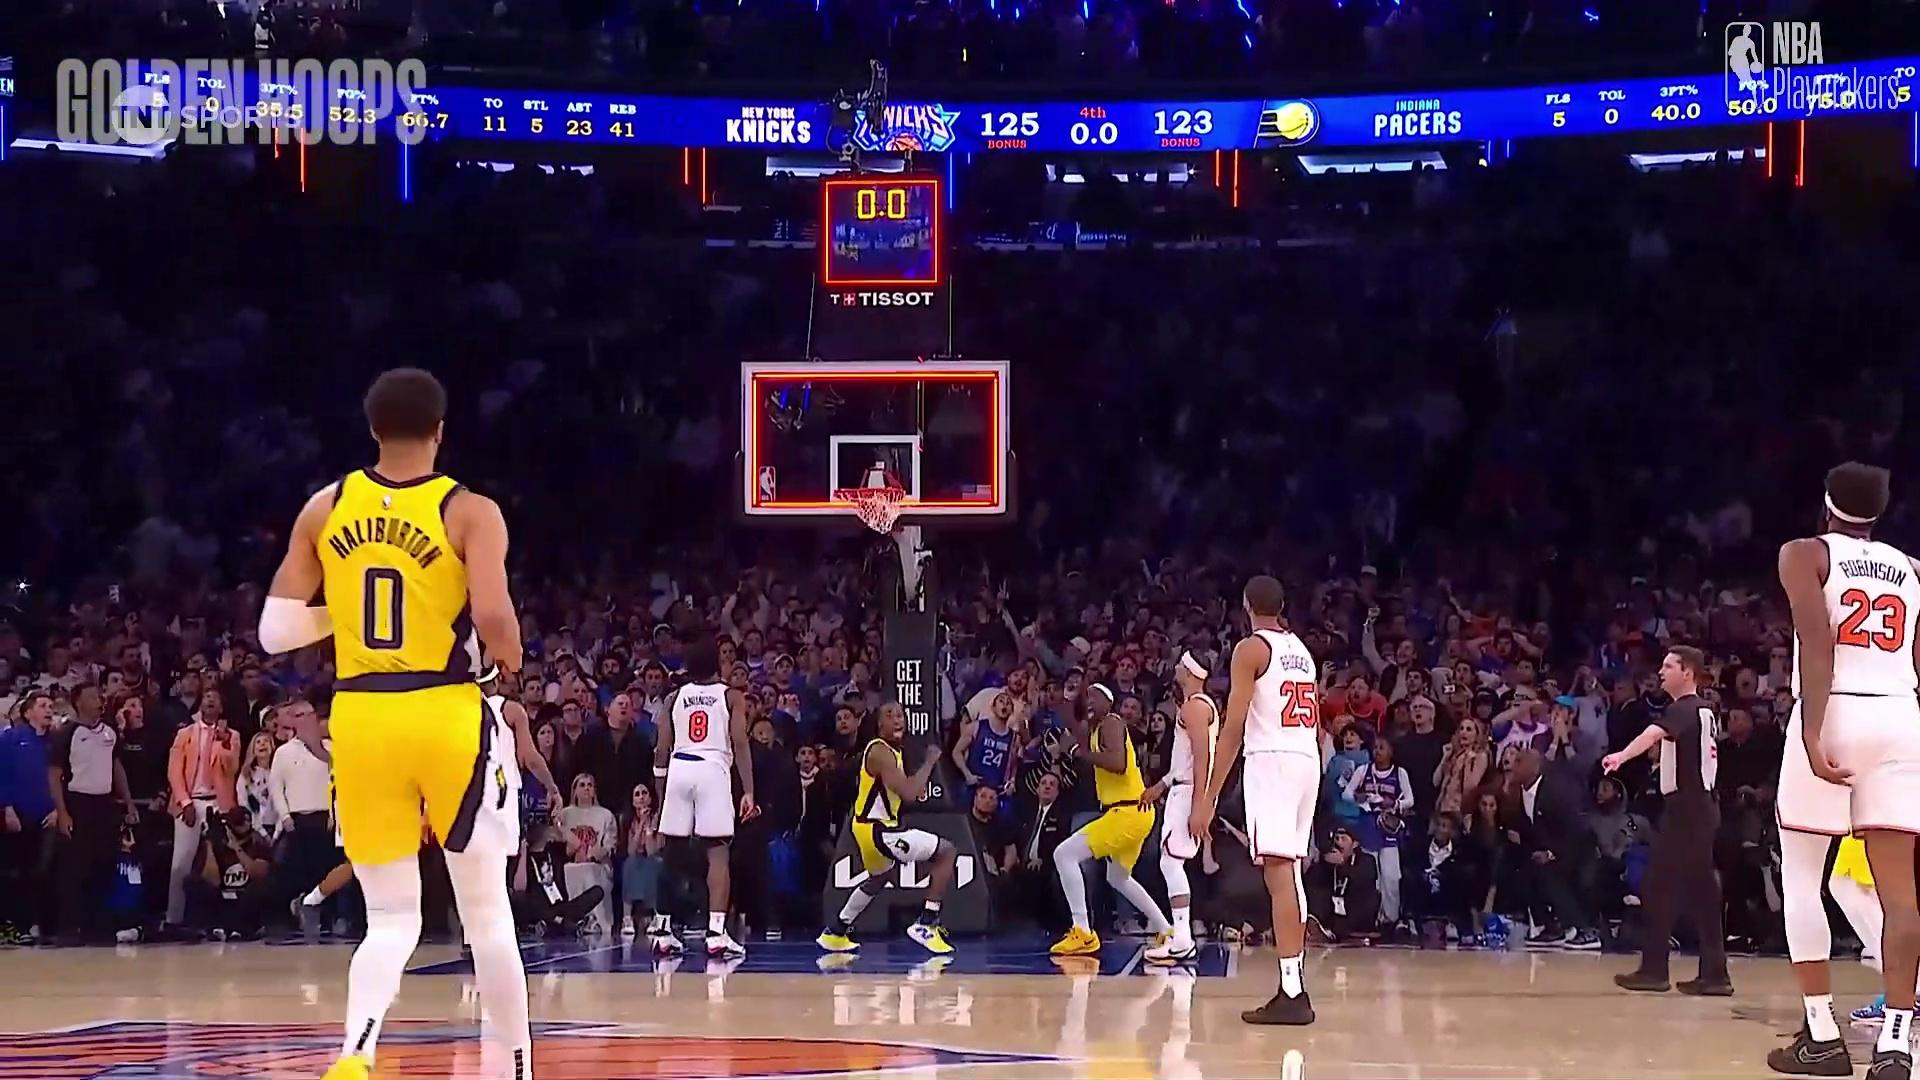hoop: (832, 464, 906, 550)
